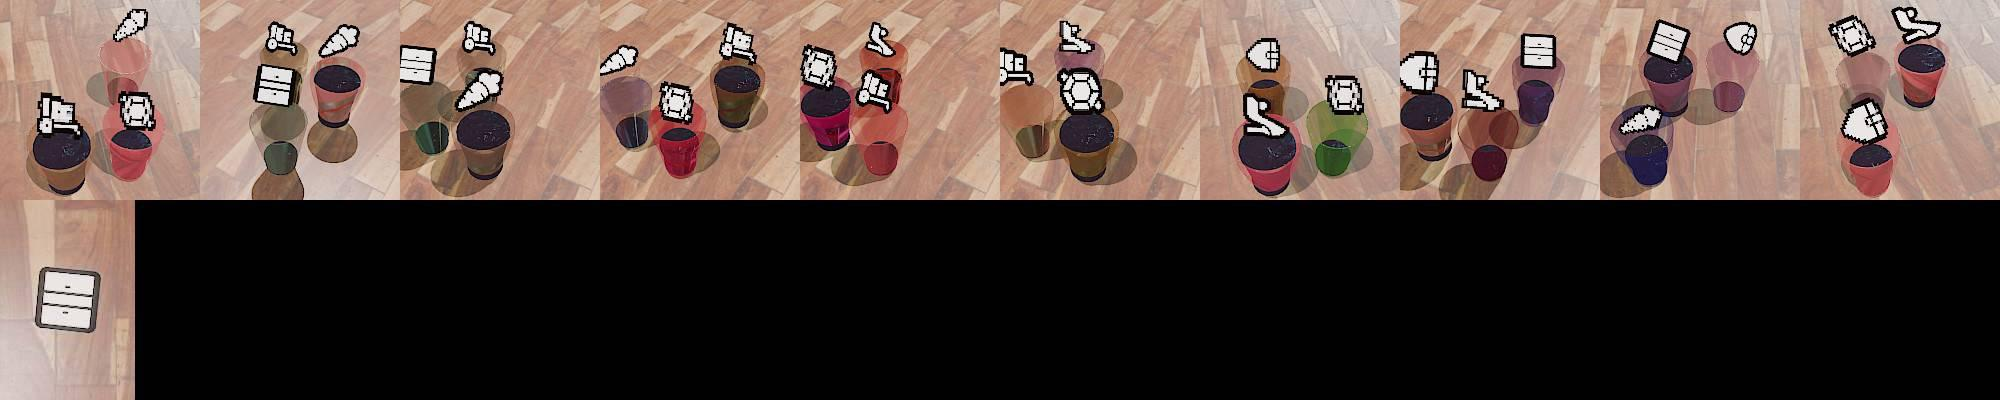icon: (33, 266, 102, 335), (1056, 66, 1104, 114), (1242, 90, 1289, 138), (1827, 14, 1876, 59), (455, 67, 505, 111), (1840, 99, 1888, 143), (1647, 18, 1691, 65), (1460, 67, 1505, 112), (37, 92, 79, 137), (1891, 6, 1941, 43), (253, 63, 296, 106), (1399, 50, 1440, 94), (855, 68, 895, 113), (656, 80, 696, 125), (800, 43, 839, 89), (1324, 73, 1365, 116), (116, 90, 158, 131), (718, 21, 757, 64), (398, 44, 436, 87), (318, 23, 361, 61), (999, 47, 1035, 88), (1617, 104, 1664, 134), (1058, 19, 1097, 55), (598, 44, 639, 77), (1520, 32, 1556, 69), (111, 8, 149, 43), (1246, 37, 1282, 73), (1722, 21, 1758, 56), (864, 21, 897, 59), (264, 21, 299, 55), (462, 20, 496, 55)
